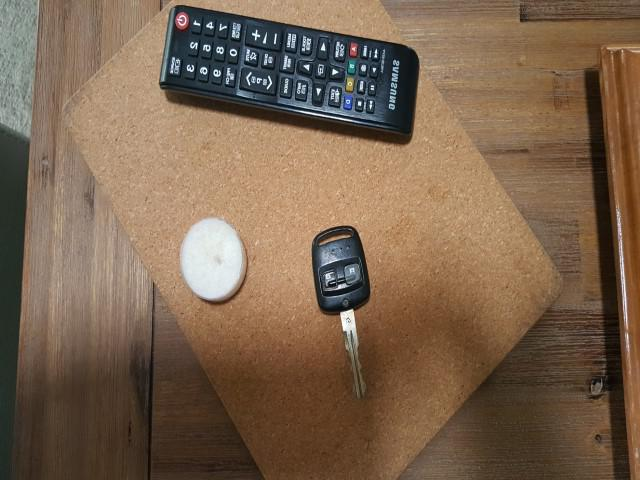key: (311, 225, 373, 373)
